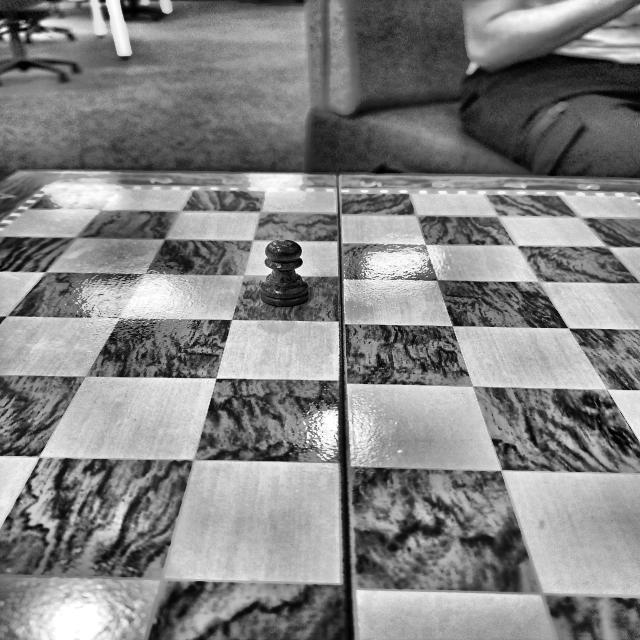black-pawn: (260, 239, 309, 307)
